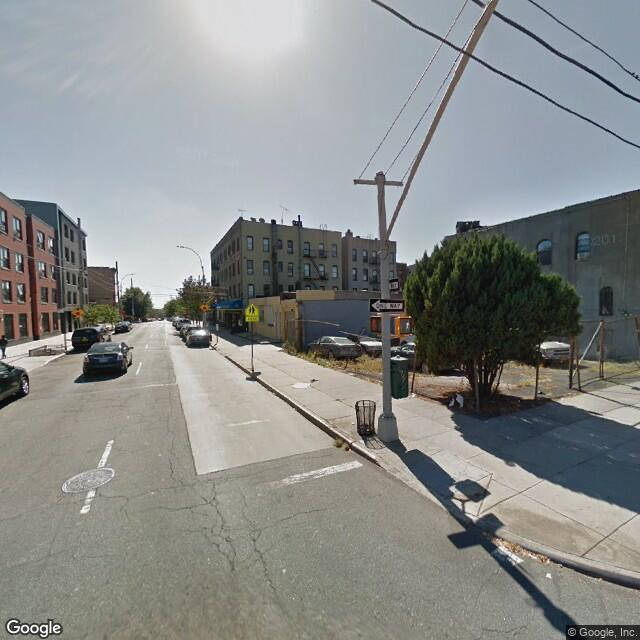litter: (491, 544, 526, 569), (448, 392, 463, 410), (542, 573, 554, 581), (409, 390, 418, 397)
